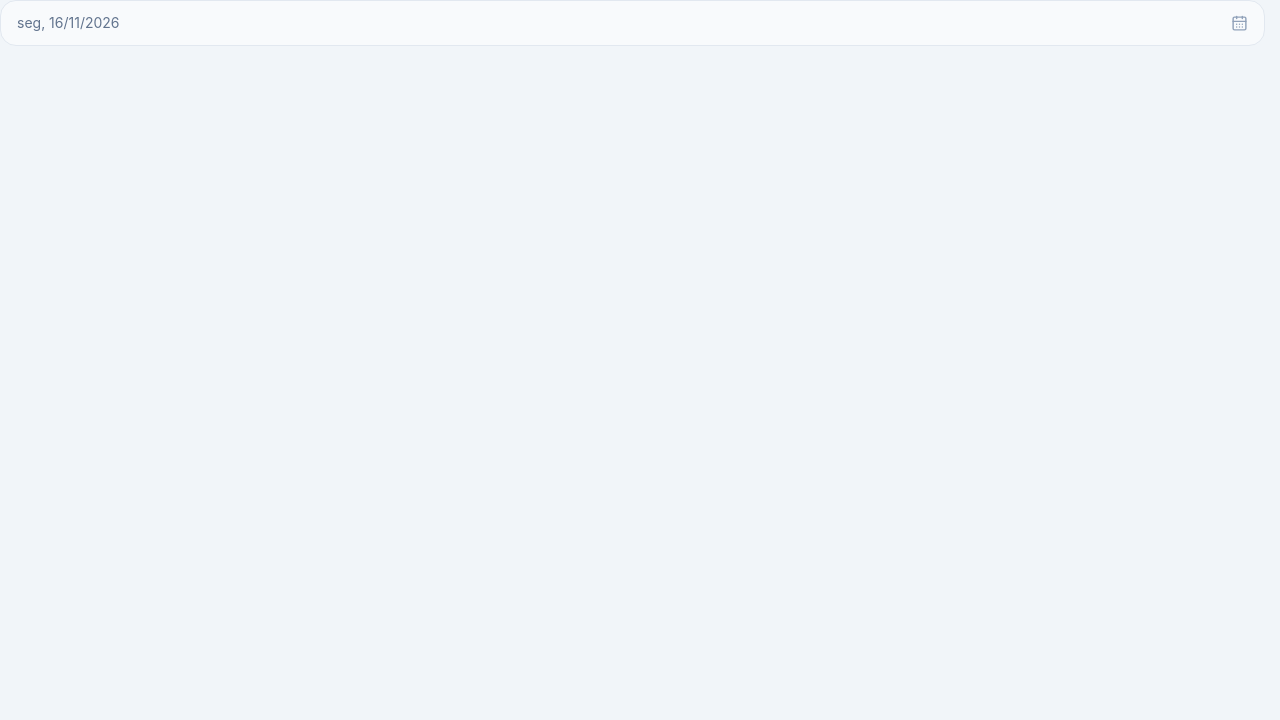
Test: DatePicker › marca o dia escolhido e fecha com Esc
Click the button with aria-label "Data".
click(68, 22)  # box x1=0 y1=0 x2=1265 y2=46
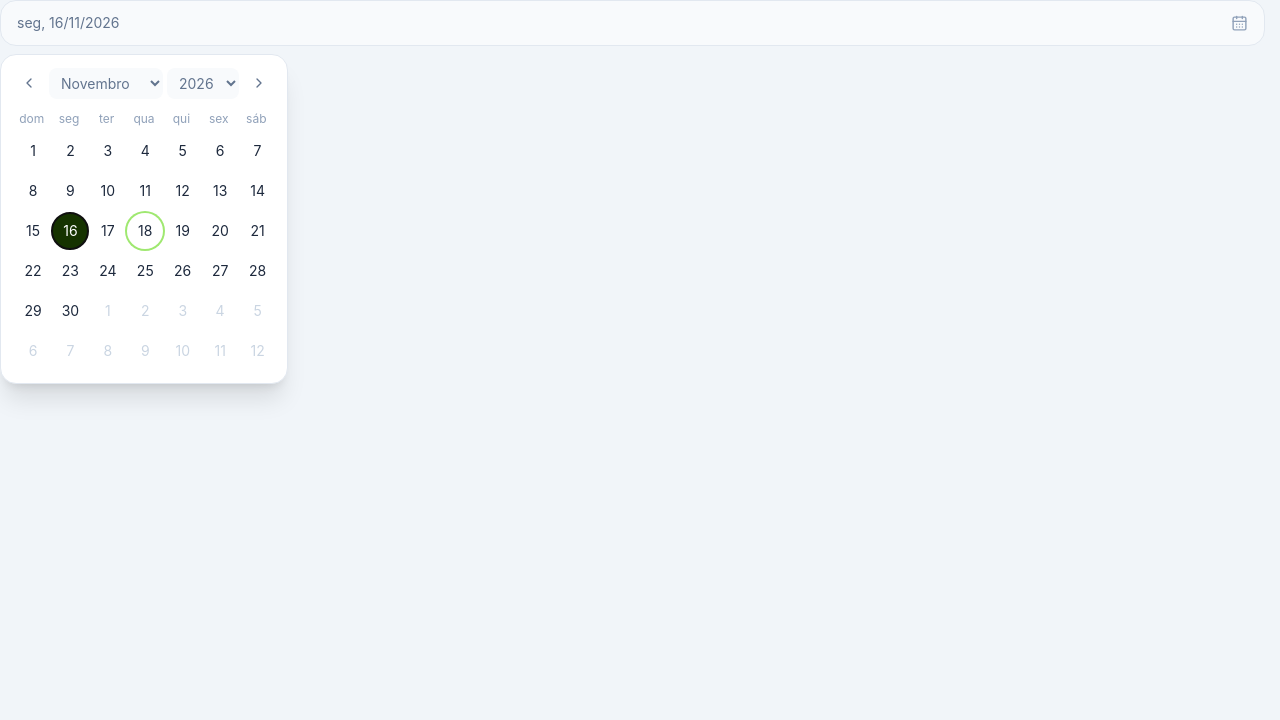
Press Escape
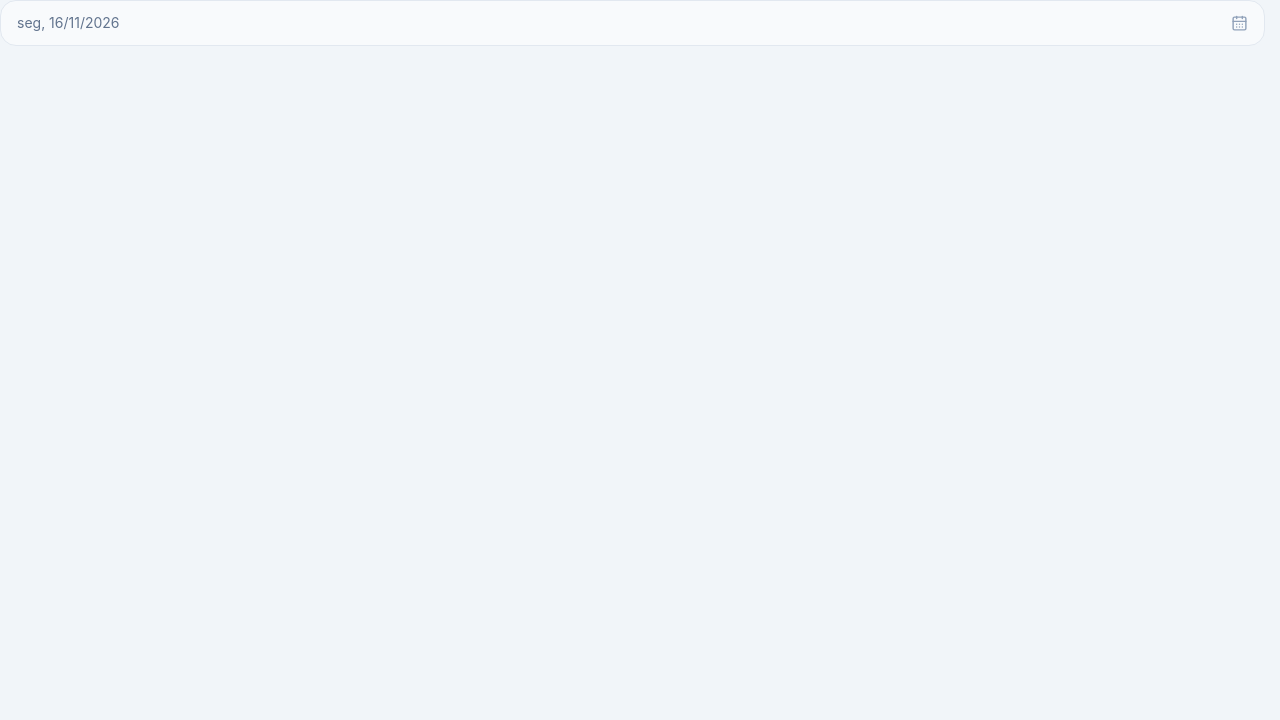
Expected: the dialog is gone
